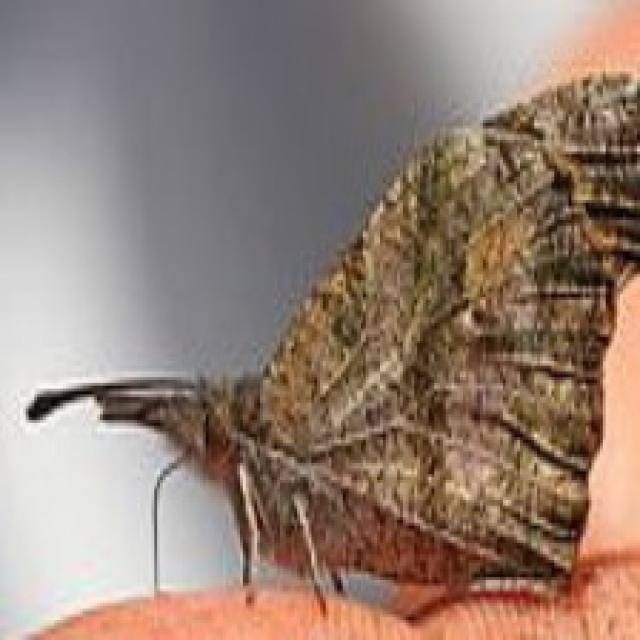butterfly: (23, 63, 637, 626)
